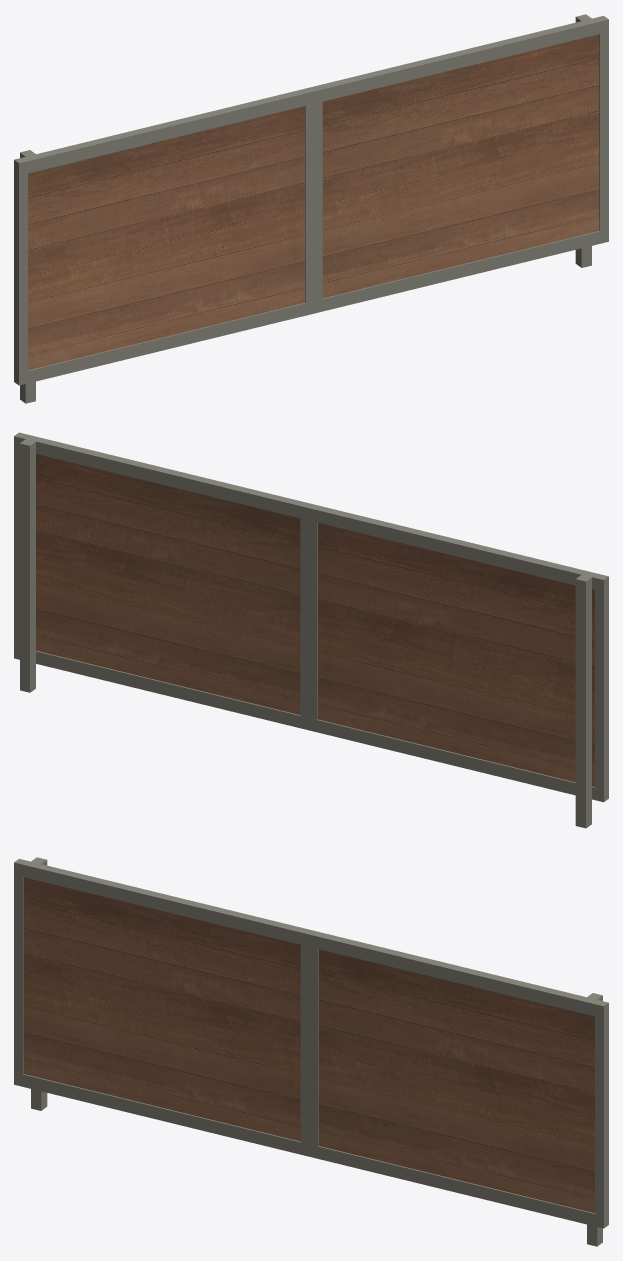
The model's file is EAFboarddesignryoumen_w1998-h720_jara.fbx.
3 views of the same model, one above another, from view 1: azimuth 30°, elevation 25°; view 2: azimuth 150°, elevation 25°; view 3: azimuth 330°, elevation 25° (orthographic).
Visible parts, largest first — view 1: EAFboarddesignryoumen_w1998-h720_jara; view 2: EAFboarddesignryoumen_w1998-h720_jara; view 3: EAFboarddesignryoumen_w1998-h720_jara.
Part boxes in pixels (x1=…): EAFboarddesignryoumen_w1998-h720_jara: x1=14, y1=14, x2=608, y2=403; EAFboarddesignryoumen_w1998-h720_jara: x1=14, y1=432, x2=608, y2=828; EAFboarddesignryoumen_w1998-h720_jara: x1=14, y1=857, x2=608, y2=1246.
Bounding box in the file's own units: 200 × 80 × 6.5.
Materials: 3 (3 with a texture image).
